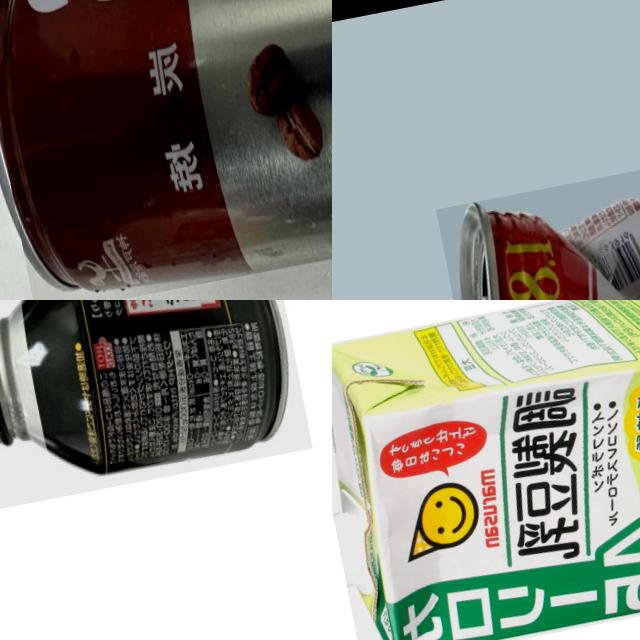Aluminium Foil: (332, 300, 640, 640)
Can: (0, 0, 332, 300), (0, 300, 314, 514), (435, 145, 640, 300)
